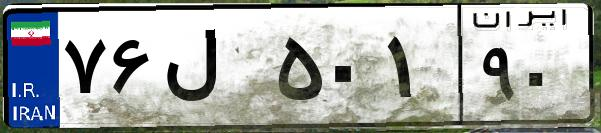0: (330, 28, 385, 110), (525, 38, 570, 115)
1: (385, 28, 445, 110)
5: (270, 28, 330, 110)
6: (110, 28, 158, 98)
7: (57, 26, 110, 100)
9: (475, 38, 525, 113)
ل: (158, 20, 270, 120)
